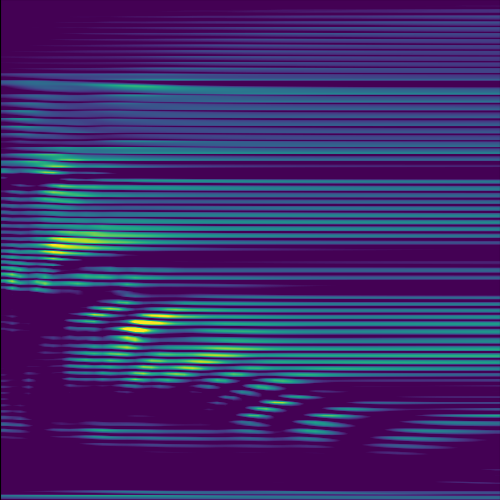semblance: (85, 299, 188, 353), (42, 220, 135, 263), (177, 341, 260, 385), (255, 396, 306, 407)
